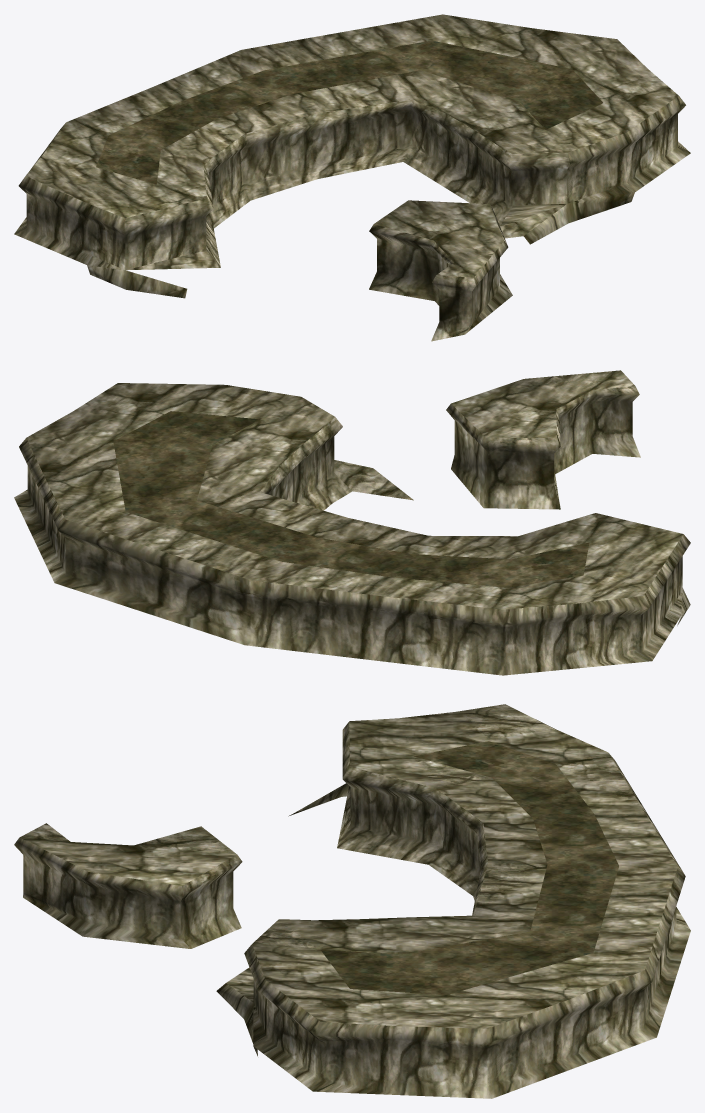
File: CB_NEWPLAYSURFACE_CB_PLAYSURFACE131.fbx
The picture shows the model from 3 angles, top to bottom: view 1: azimuth 30°, elevation 25°; view 2: azimuth 150°, elevation 25°; view 3: azimuth 270°, elevation 25°; orthographic projection. The views are drawn at different scales.
Parts seen in each view (by area): view 1: CB_NEWPLAYSURFACE_CB_PLAYSURFACE131; view 2: CB_NEWPLAYSURFACE_CB_PLAYSURFACE131; view 3: CB_NEWPLAYSURFACE_CB_PLAYSURFACE131.
Part boxes in pixels (x1=…): CB_NEWPLAYSURFACE_CB_PLAYSURFACE131: x1=14, y1=14, x2=690, y2=341; CB_NEWPLAYSURFACE_CB_PLAYSURFACE131: x1=14, y1=370, x2=690, y2=675; CB_NEWPLAYSURFACE_CB_PLAYSURFACE131: x1=14, y1=704, x2=690, y2=1098.
Bounding box in the file's own units: 323119 × 35025 × 275806.
Materials: 3 (3 with a texture image).
